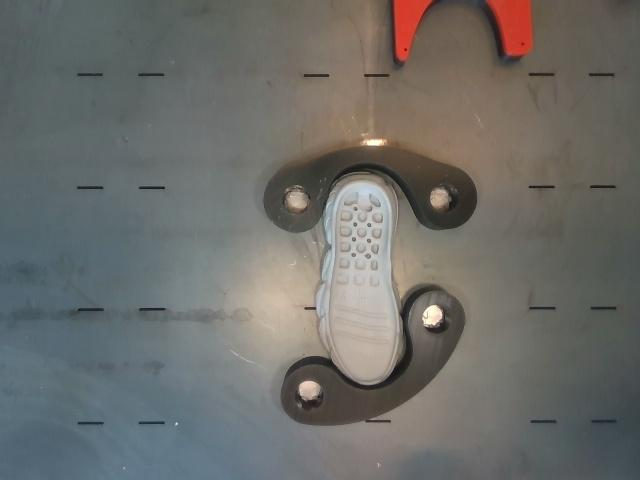shoes: (329, 184, 398, 384)
